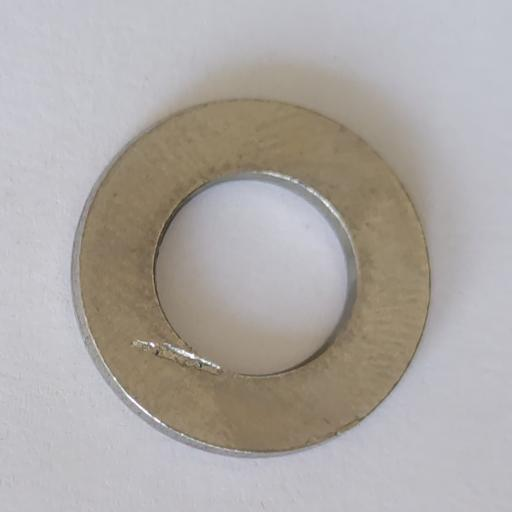scratch: (133, 339, 222, 377)
